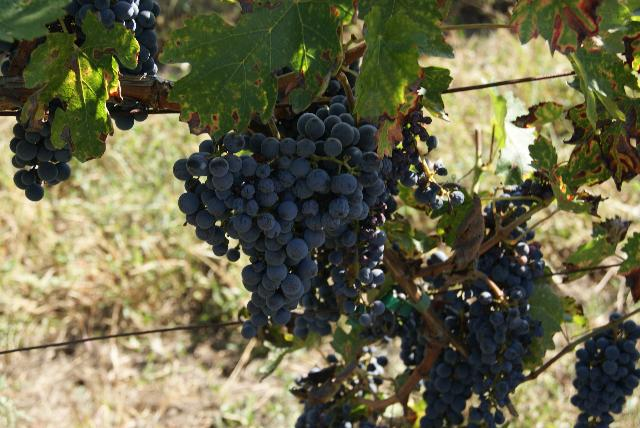grapes: (174, 114, 360, 339), (280, 71, 412, 315)
